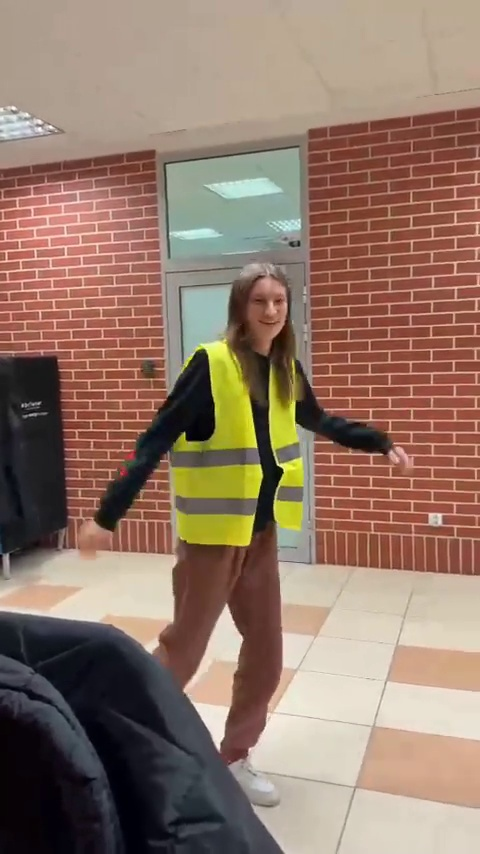vest: (127, 255, 378, 822)
